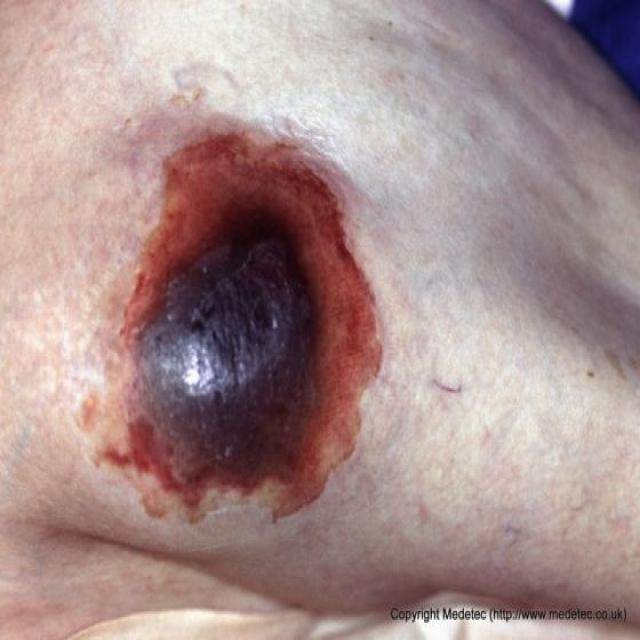DTI: (122, 133, 381, 517)
